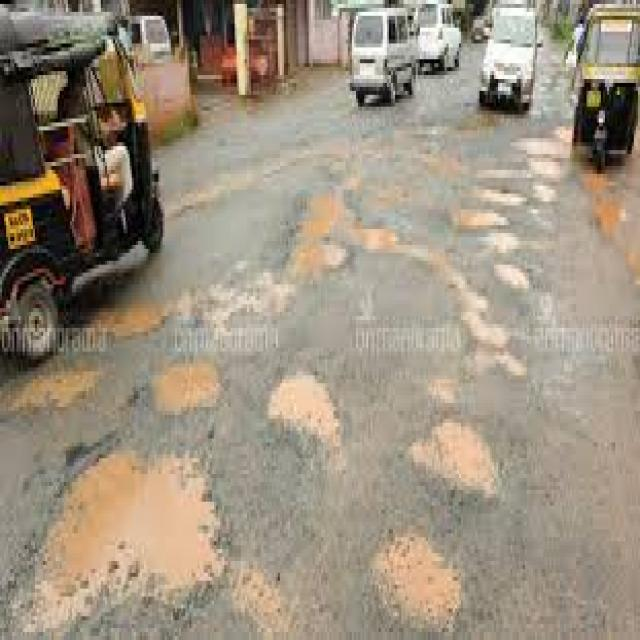Pothole: (286, 194, 508, 352), (49, 450, 220, 585), (370, 533, 463, 640), (268, 375, 346, 470), (410, 423, 498, 498), (150, 328, 222, 415), (455, 205, 508, 233)
